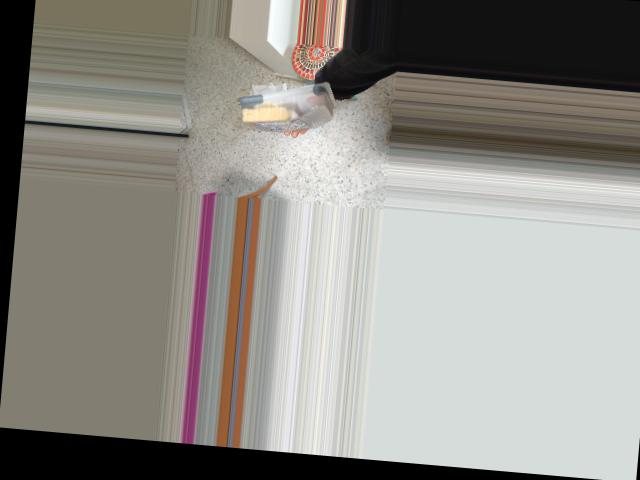cheese: (235, 71, 335, 138)
